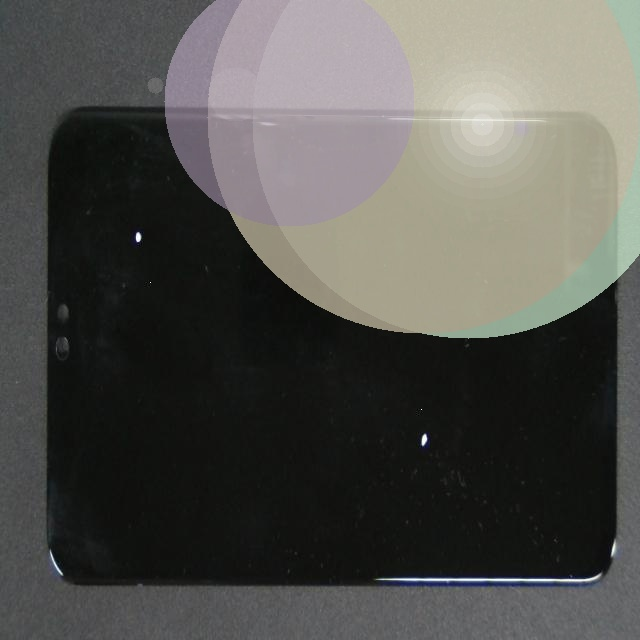stain: (221, 193, 634, 617), (58, 119, 175, 361)
